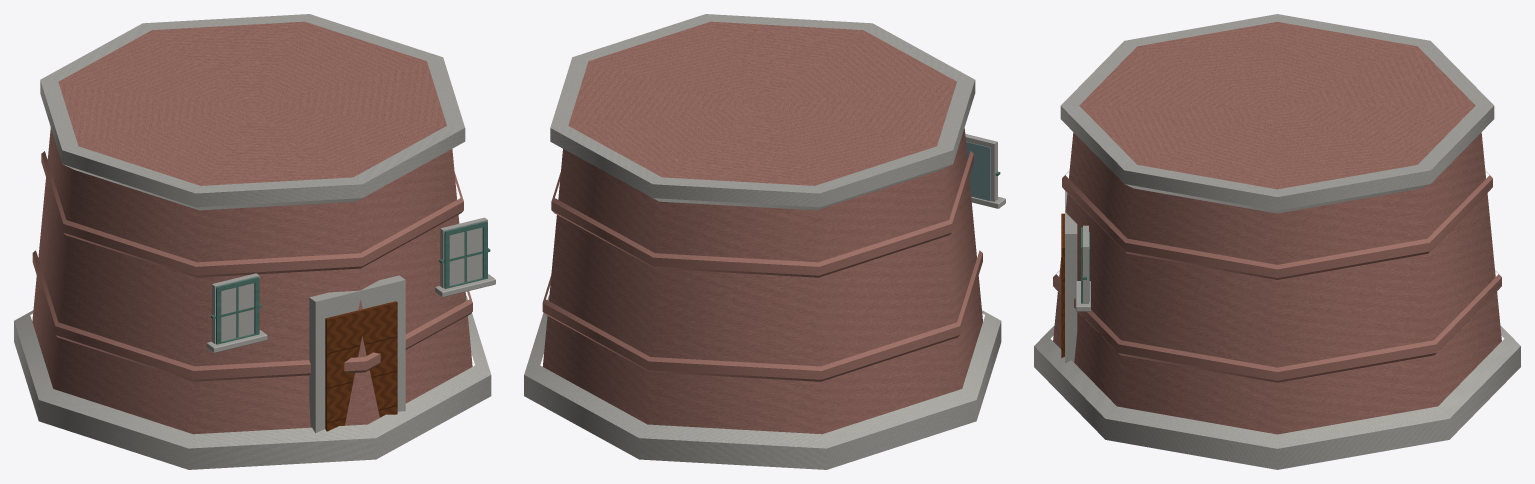
File: mill-tower-lower-stage.glb
The picture shows the model from 3 angles, left to right: view 1: azimuth 30°, elevation 25°; view 2: azimuth 150°, elevation 25°; view 3: azimuth 270°, elevation 25°; orthographic projection.
Parts seen in each view (by area): view 1: mill-tower-lower-stage; view 2: mill-tower-lower-stage; view 3: mill-tower-lower-stage.
Part boxes in pixels (x1,y1,x2,y2): mill-tower-lower-stage: [14, 14, 495, 469]; mill-tower-lower-stage: [524, 14, 1005, 469]; mill-tower-lower-stage: [1034, 14, 1520, 469].
Bounding box in the file's own units: 7.12 × 4.22 × 7.12.
5 materials, 4 textured.
